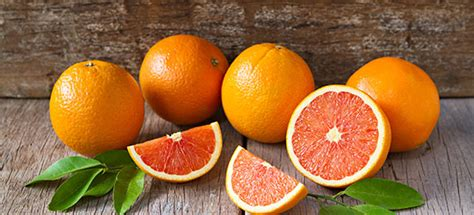orange: (220, 39, 320, 143), (48, 59, 149, 157), (342, 56, 441, 155), (138, 32, 229, 127)
